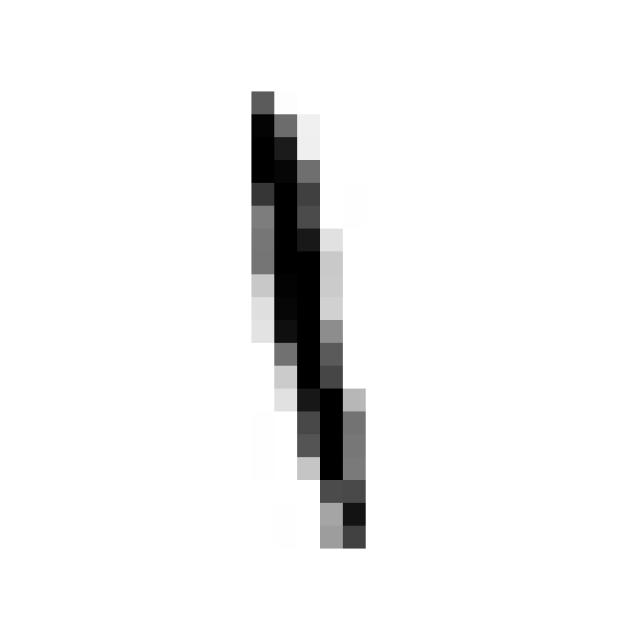1 -one-: (222, 73, 388, 559)
